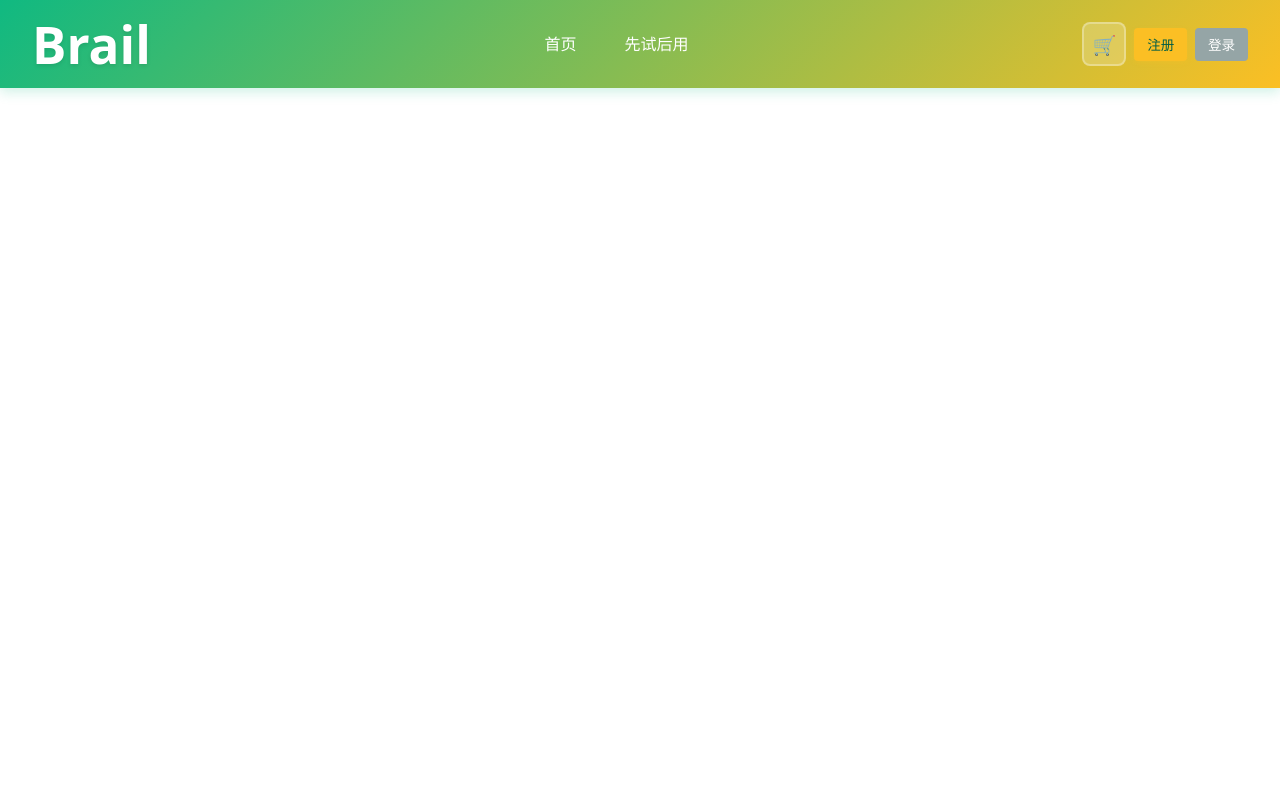
Test: Header.vue 注册功能单元测试 › 表单验证测试 › 应该验证邮箱格式
Click the button "注册".
click(1161, 44)  # box x1=1134 y1=28 x2=1187 y2=61
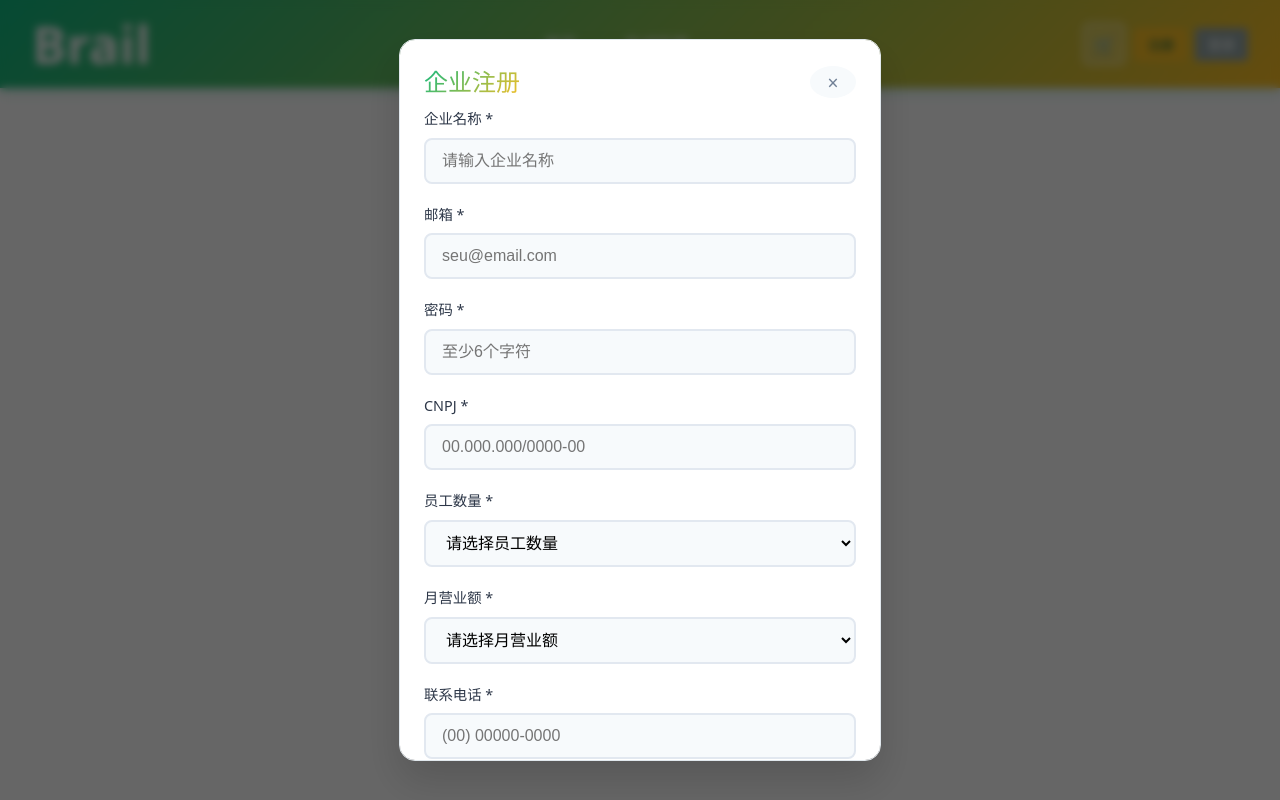
Type "invalid-email" into the field with id "email".
click(640, 256); type("invalid-email")  # box x1=424 y1=233 x2=856 y2=279
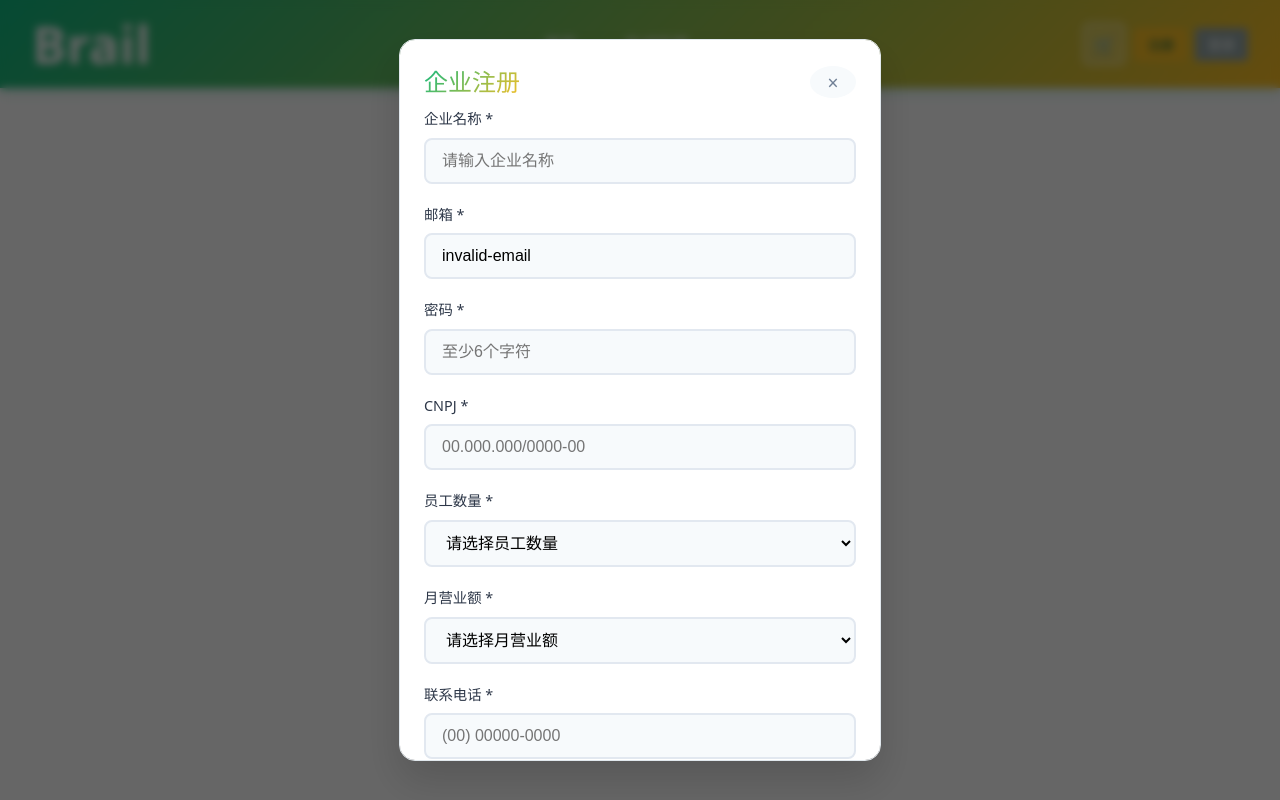
Leave the field with id "email", box x1=424 y1=233 x2=856 y2=279
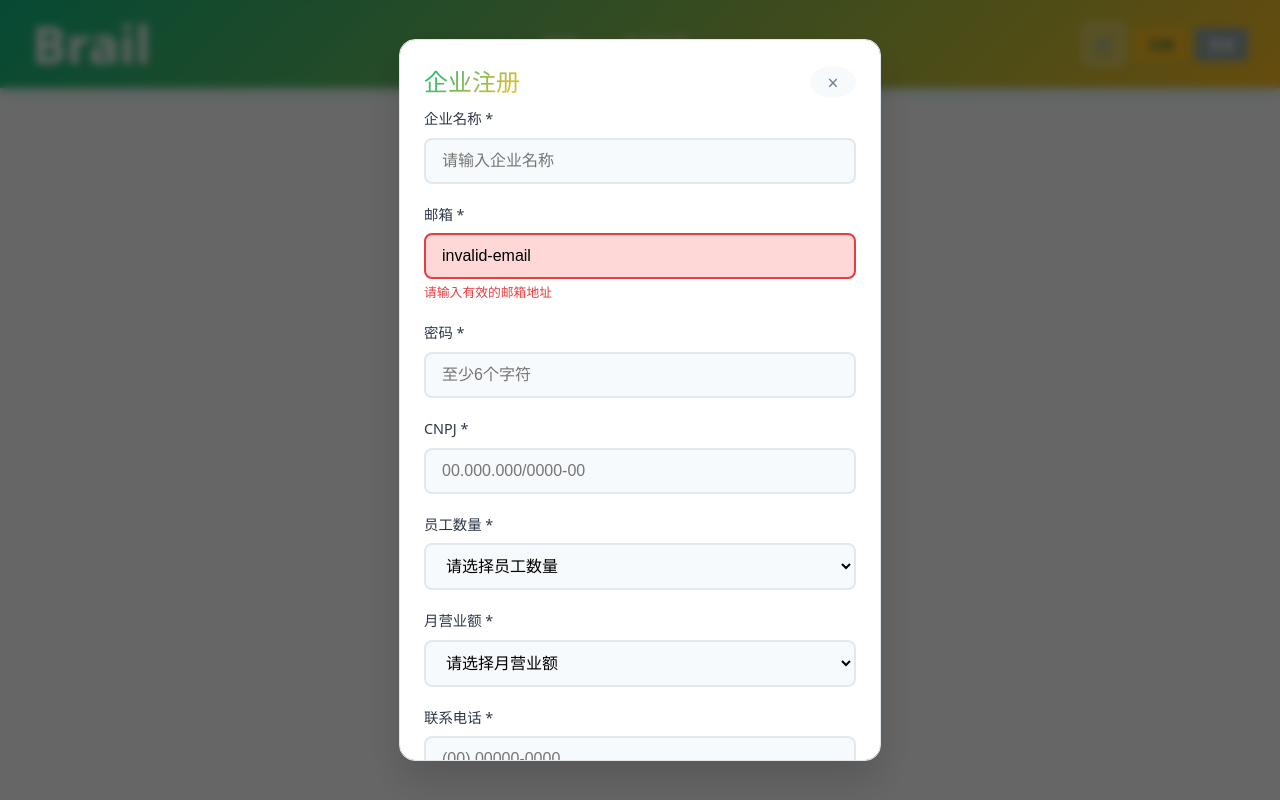
Expected: the text with class "error-message" reads "请输入有效的邮箱地址", x1=424 y1=283 x2=552 y2=301
